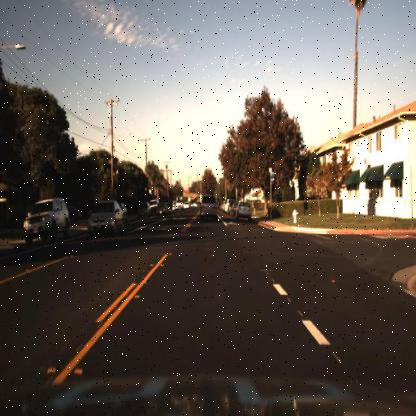car: (22, 196, 72, 248), (84, 200, 125, 240), (196, 188, 223, 221), (236, 198, 256, 220), (153, 196, 171, 219), (134, 200, 150, 223), (230, 197, 240, 217), (122, 202, 128, 223)
